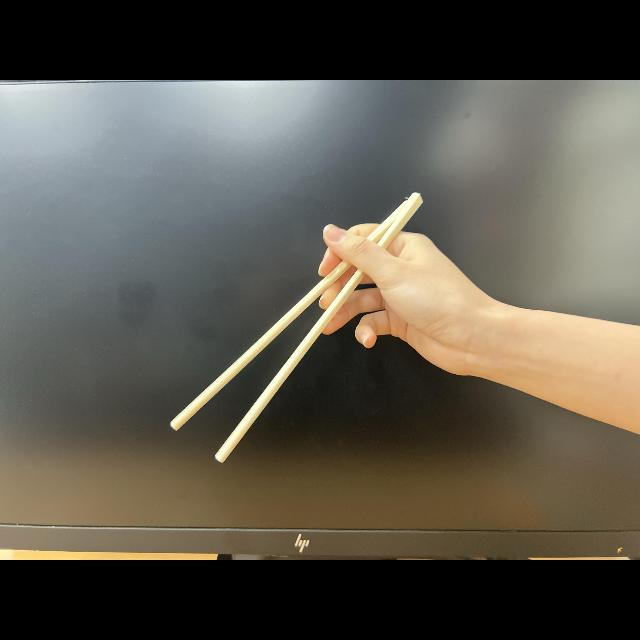stick: (170, 190, 496, 460)
